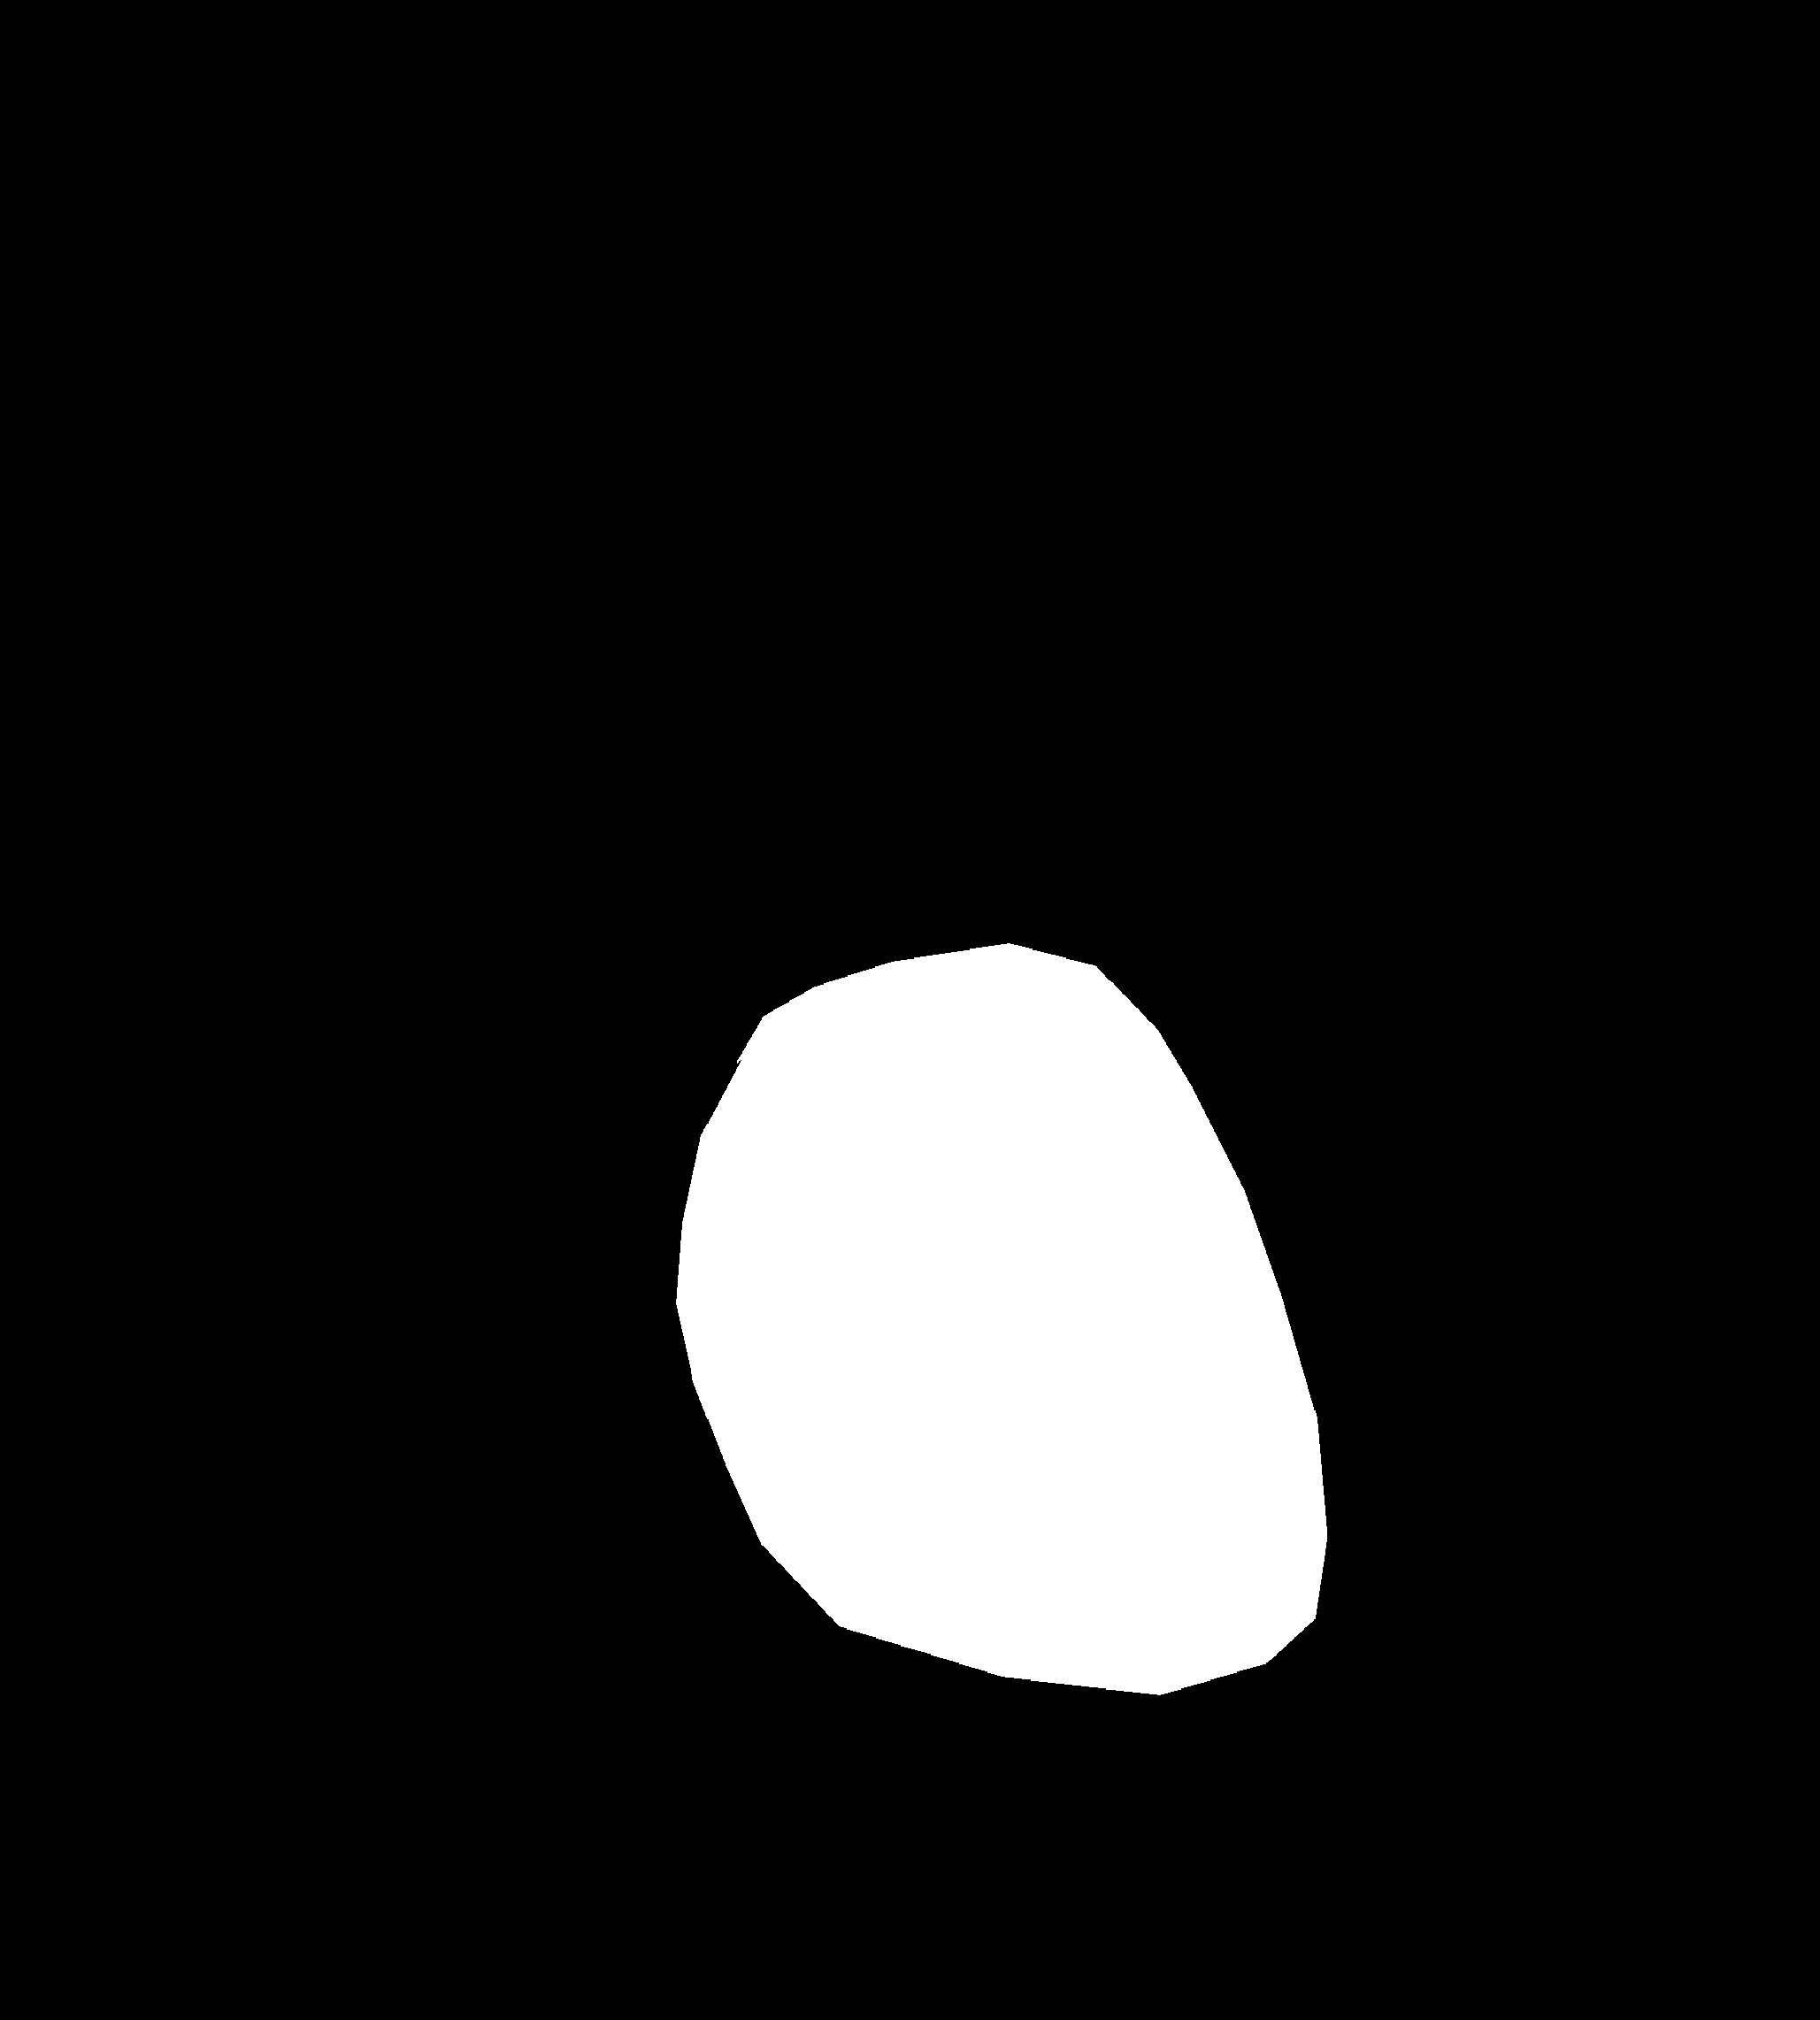heart: (673, 1033, 1326, 1769)
left_lung: (105, 167, 822, 1913)
right_lung: (1029, 133, 1658, 1915)
